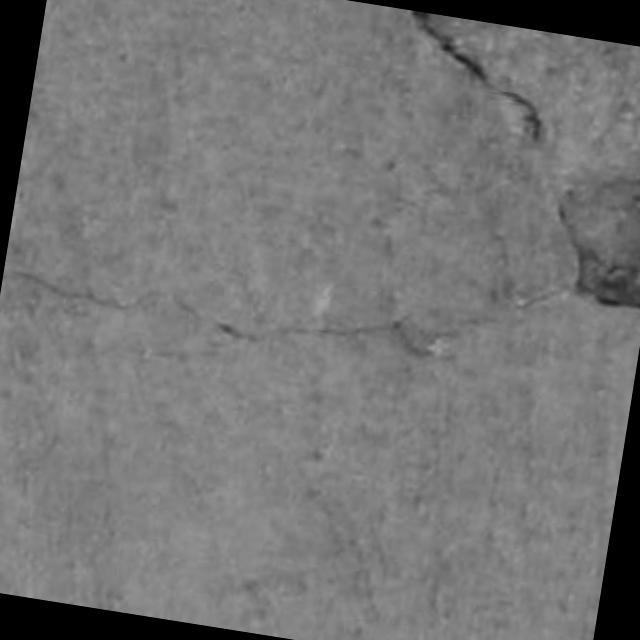crack: (215, 285, 571, 359), (411, 11, 544, 143), (217, 319, 440, 358), (557, 202, 639, 308), (3, 269, 141, 311), (411, 11, 489, 84), (497, 89, 544, 141)
